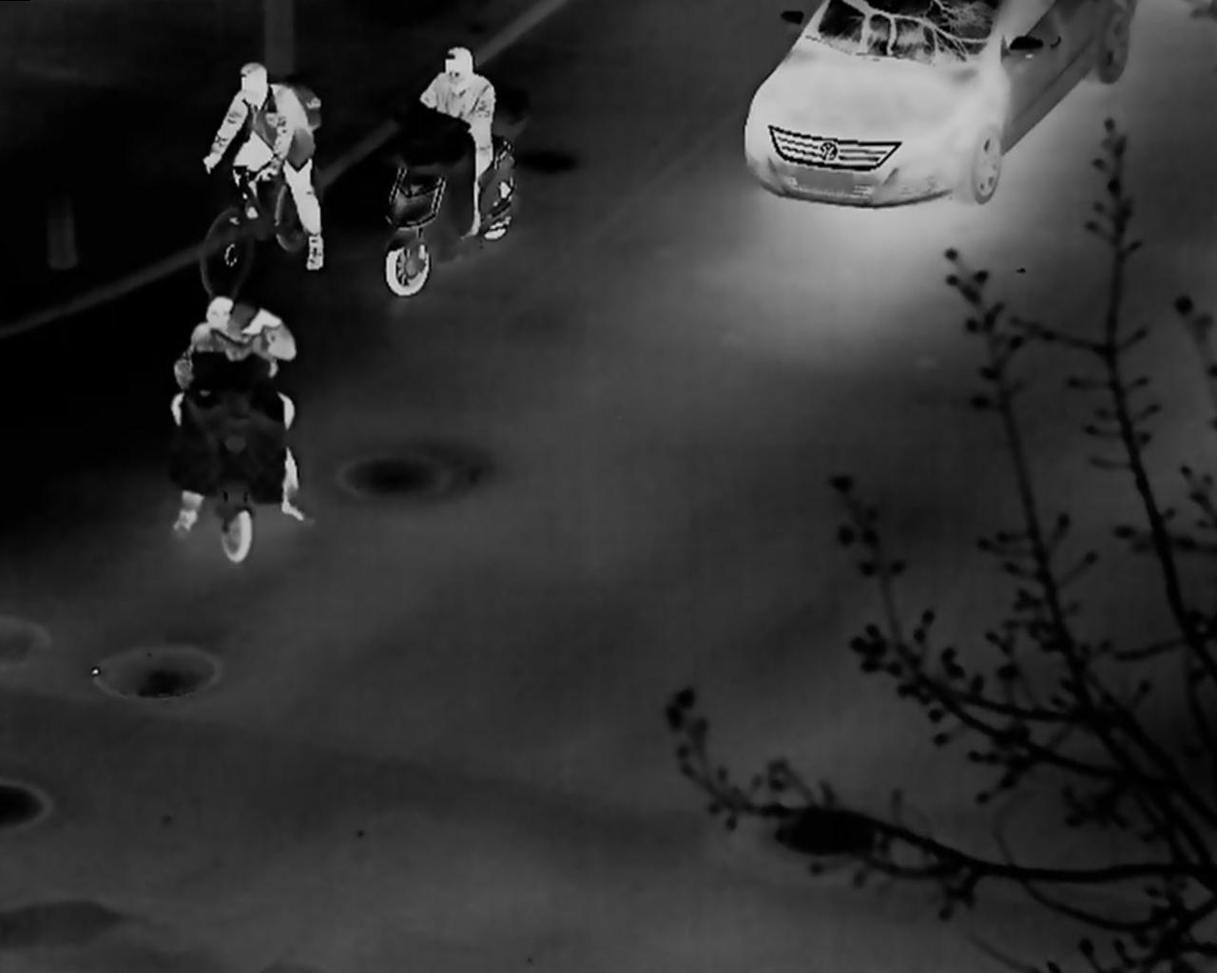person: (172, 298, 309, 534), (204, 55, 324, 275), (419, 42, 494, 243), (186, 302, 287, 363)
